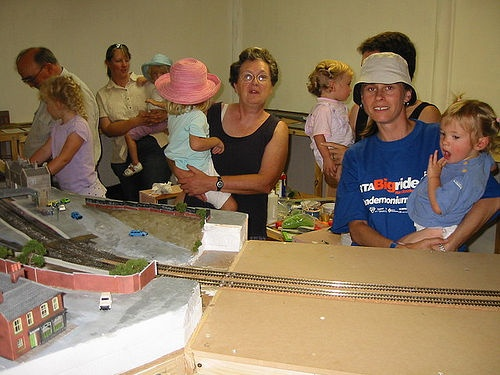head: (354, 54, 416, 126), (439, 98, 497, 166), (228, 47, 281, 110), (356, 31, 416, 79), (12, 42, 63, 85), (307, 59, 353, 105), (39, 77, 84, 124), (103, 44, 136, 84), (141, 52, 170, 89)
person: (176, 44, 287, 240), (331, 48, 437, 249), (403, 99, 498, 249), (23, 65, 103, 193), (154, 54, 223, 202), (94, 42, 164, 180), (302, 59, 354, 193), (19, 46, 66, 163)
